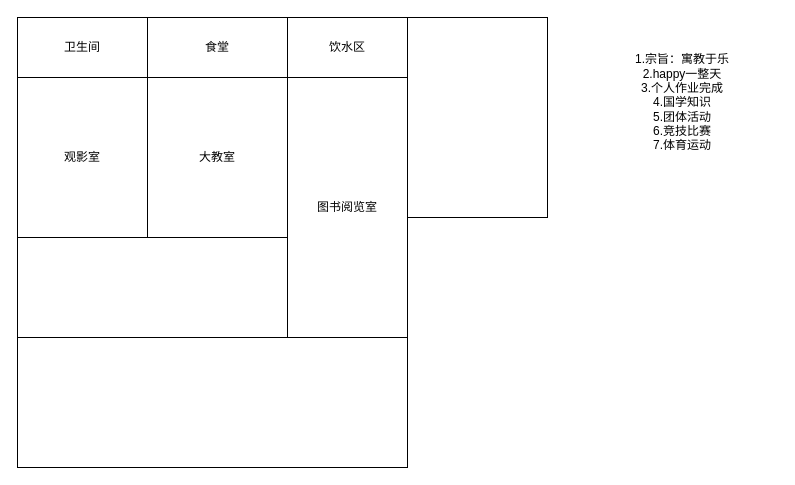
Some shapes in this 795 by 485 pixel diagram are drawn without their labels. Here are the shapes that lost their labels. From the top down, the centre of each, then its label:
At [477,117]: "准备室".
At [152,287]: "室内运动".
At [212,402]: "户外活动区".
